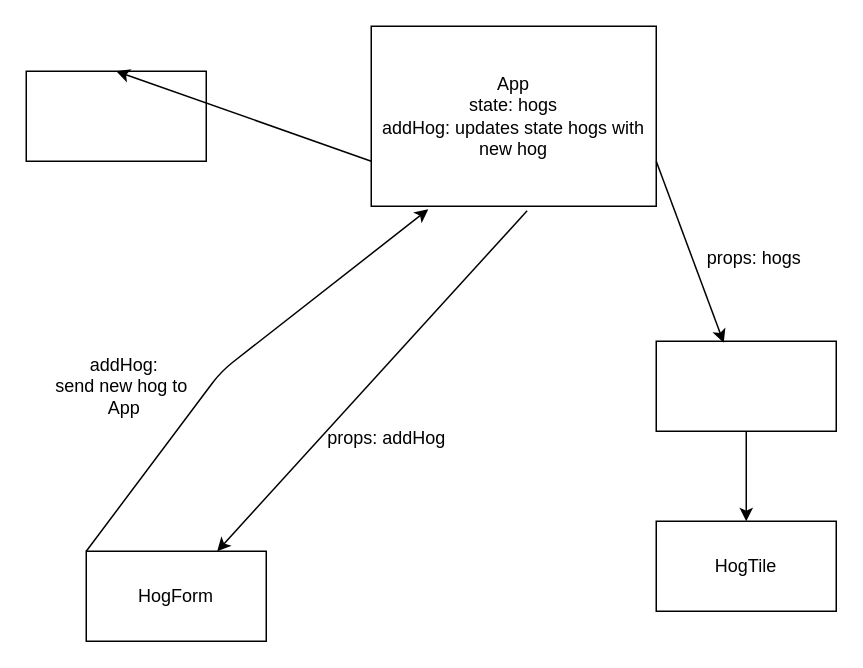
Some shapes in this 863 by 668 pixel diagram are drawn without their labels. Each missing label, with the box of its shape:
HogList: (655, 340, 836, 431)
Nav: (25, 70, 206, 161)
